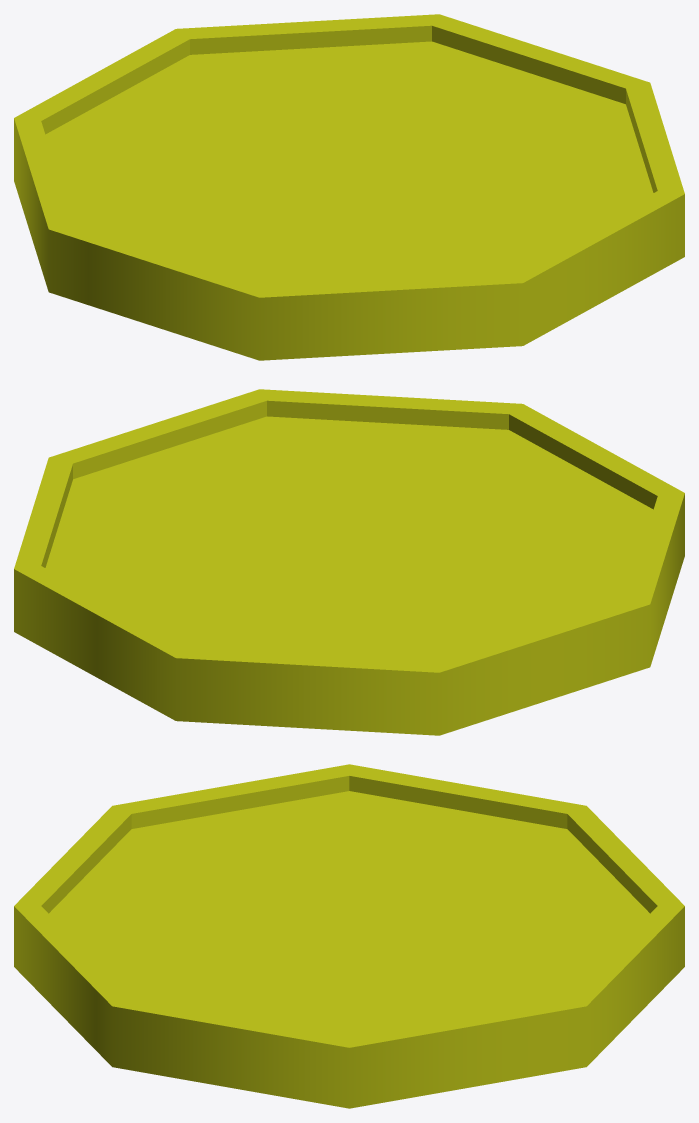
The model's file is Монетка.FBX.
The picture shows the model from 3 angles, top to bottom: view 1: azimuth 30°, elevation 25°; view 2: azimuth 150°, elevation 25°; view 3: azimuth 270°, elevation 25°; orthographic projection. The views are drawn at different scales.
Parts seen in each view (by area): view 1: Cylinder001; view 2: Cylinder001; view 3: Cylinder001.
Boxes of the visible parts, <box> form: Cylinder001: <box>14,14,684,360</box>; Cylinder001: <box>14,389,684,735</box>; Cylinder001: <box>14,764,684,1108</box>.
Size of the model in its own units: 40 by 4 by 40.
